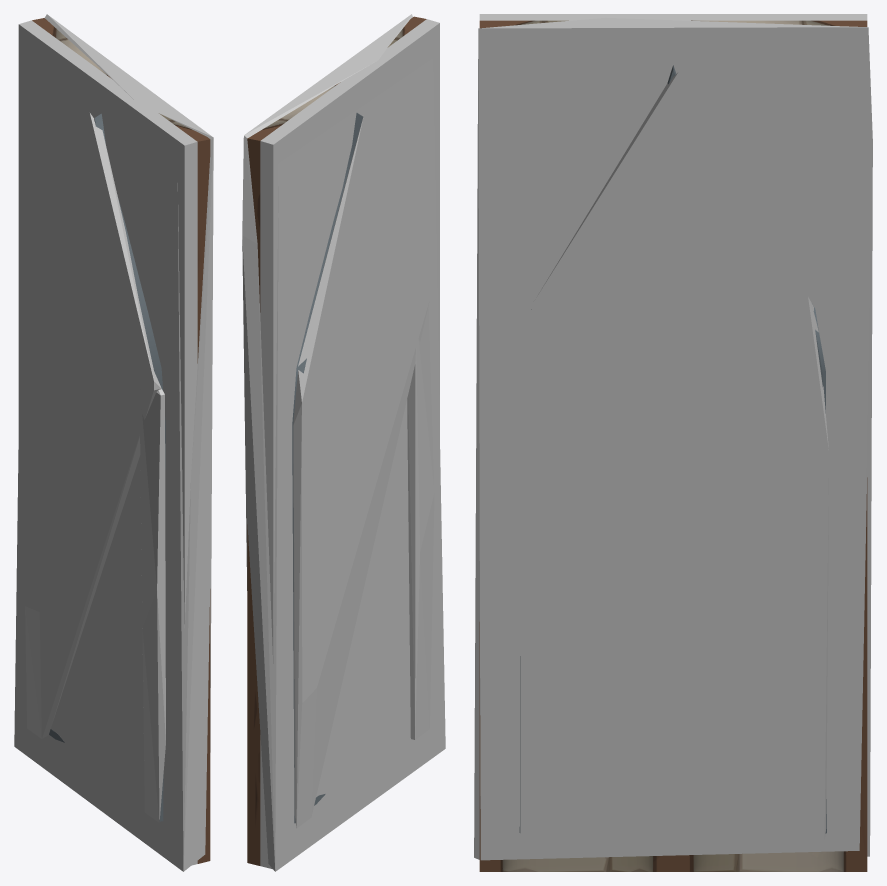
The model's file is SM_Bld_Window_Tall_01.fbx.
3 renders of one model, left to right at view 1: azimuth 30°, elevation 25°; view 2: azimuth 150°, elevation 25°; view 3: azimuth 270°, elevation 25°, orthographic. The views are drawn at different scales.
Visible parts, largest first — view 1: SM_Bld_Window_Tall_01_ConvexHulls, SM_Bld_Window_Tall_01; view 2: SM_Bld_Window_Tall_01_ConvexHulls, SM_Bld_Window_Tall_01; view 3: SM_Bld_Window_Tall_01_ConvexHulls, SM_Bld_Window_Tall_01.
Boxes of the visible parts, x1=… form: SM_Bld_Window_Tall_01_ConvexHulls: x1=14, y1=14, x2=213, y2=871; SM_Bld_Window_Tall_01: x1=18, y1=18, x2=210, y2=865; SM_Bld_Window_Tall_01_ConvexHulls: x1=242, y1=14, x2=445, y2=871; SM_Bld_Window_Tall_01: x1=247, y1=16, x2=439, y2=869; SM_Bld_Window_Tall_01_ConvexHulls: x1=474, y1=17, x2=872, y2=860; SM_Bld_Window_Tall_01: x1=479, y1=14, x2=867, y2=871.
Bounding box in the file's own units: 42.04 × 257 × 604.
